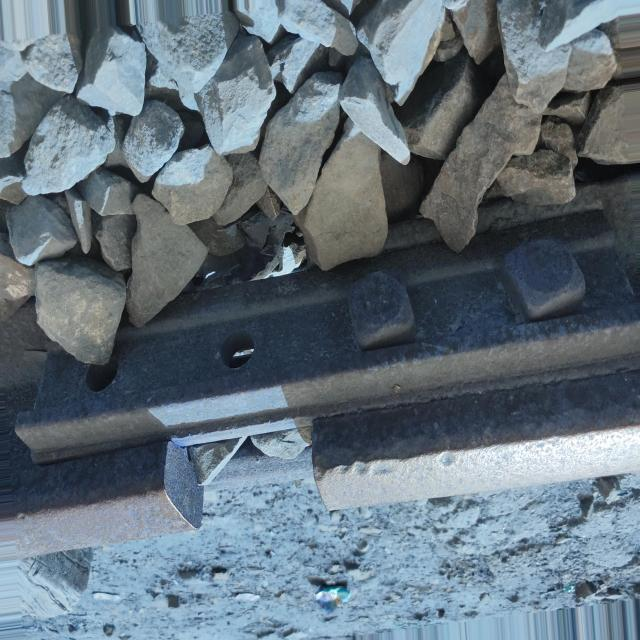Defective Joint: (16, 202, 640, 473)
